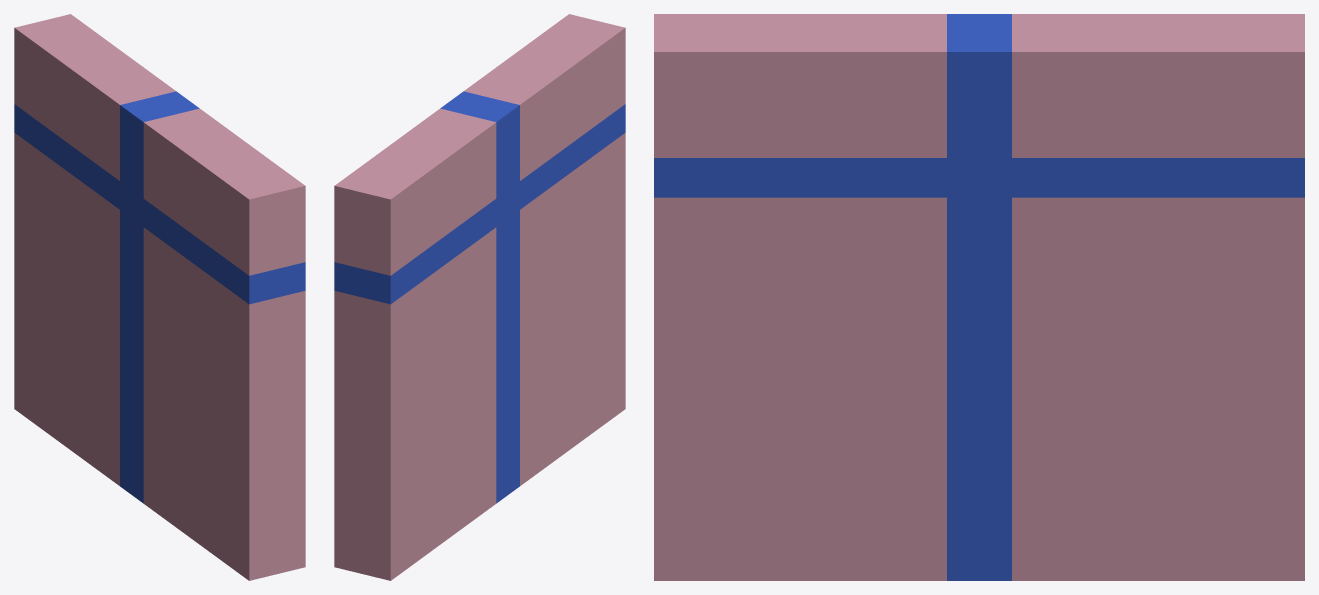
The model's file is teleportwall.fbx.
The picture shows the model from 3 angles, left to right: view 1: azimuth 30°, elevation 25°; view 2: azimuth 150°, elevation 25°; view 3: azimuth 270°, elevation 25°; orthographic projection. The views are drawn at different scales.
Parts seen in each view (by area): view 1: Cube; view 2: Cube; view 3: Cube.
Boxes of the visible parts, x1,y1,x2,y2 form: Cube: (14, 14, 305, 580); Cube: (334, 14, 625, 580); Cube: (654, 14, 1304, 580).
Size of the model in its own units: 94.78 by 614 by 684.
